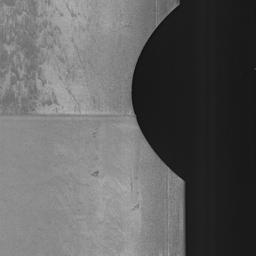Crescent gap: (131, 6, 182, 179)
